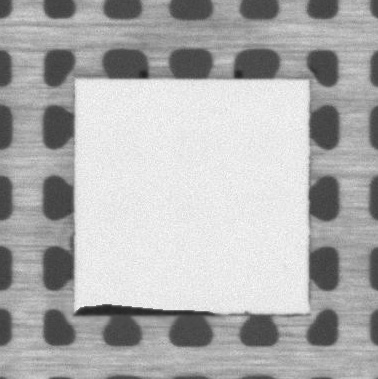DIE_BROKEN: (71, 299, 218, 319)
